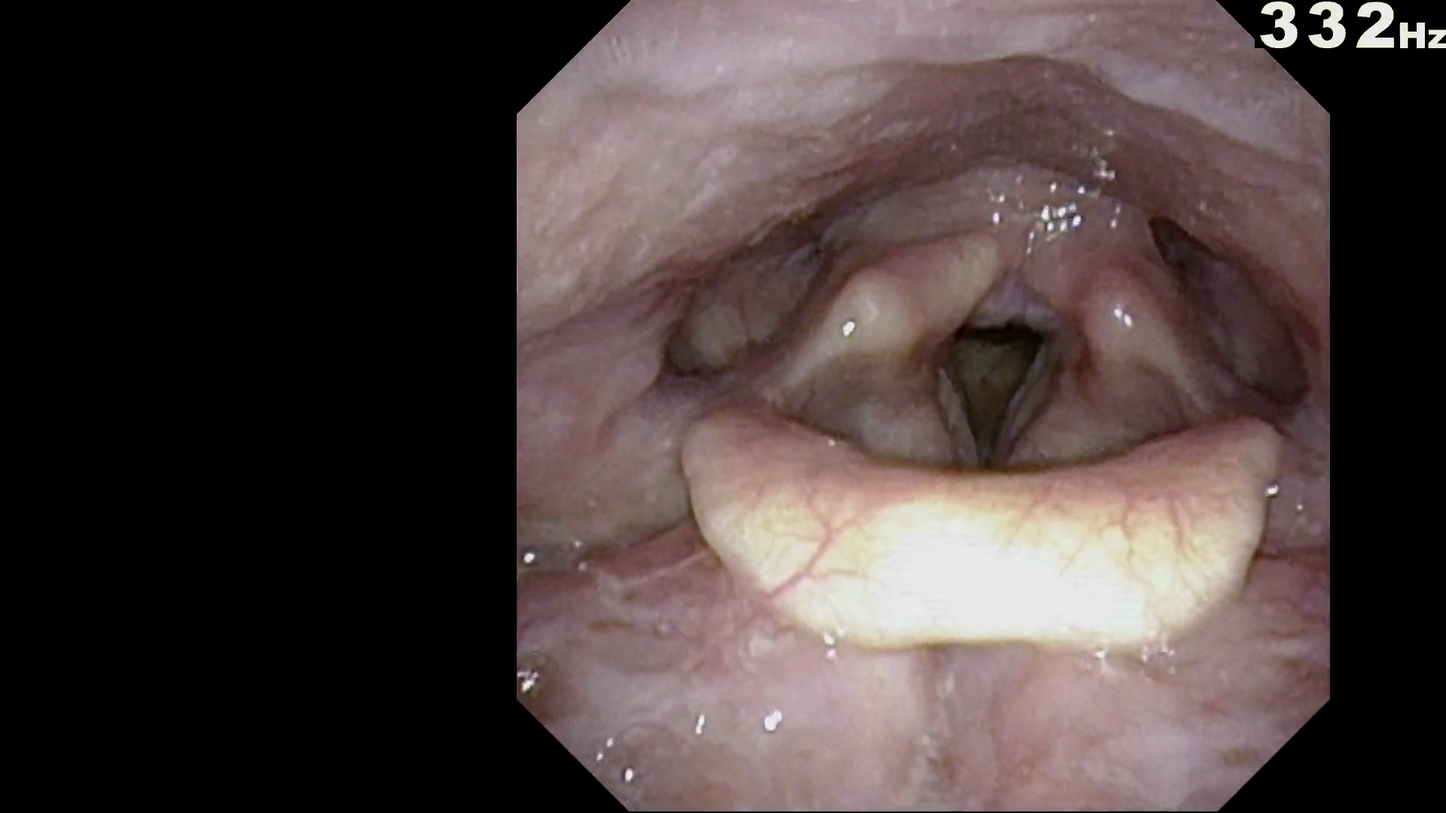epiglottis: (667, 393, 1299, 653)
trachea: (917, 289, 1097, 499)
